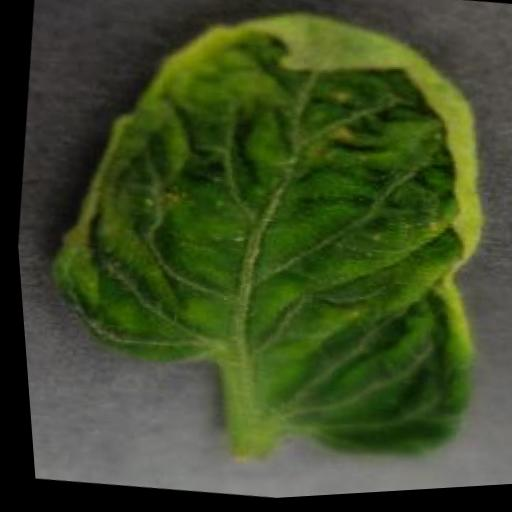Yellow Leaf Curl Virus: (10, 0, 512, 493)
